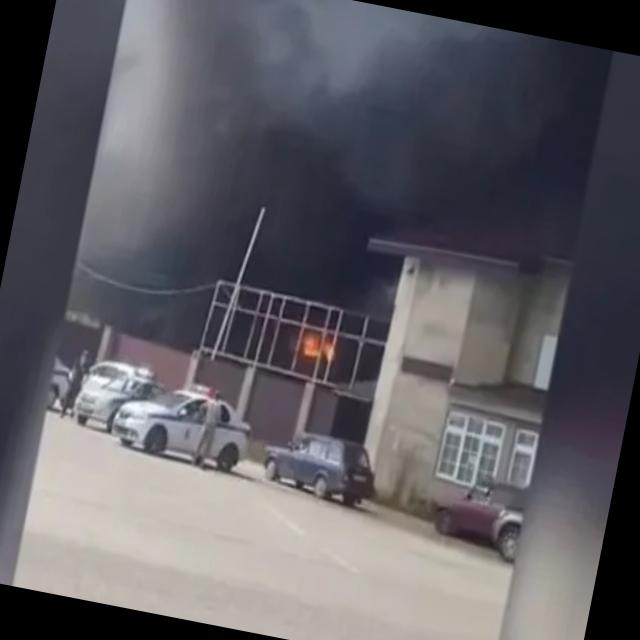Smoke: (68, 0, 617, 406)
